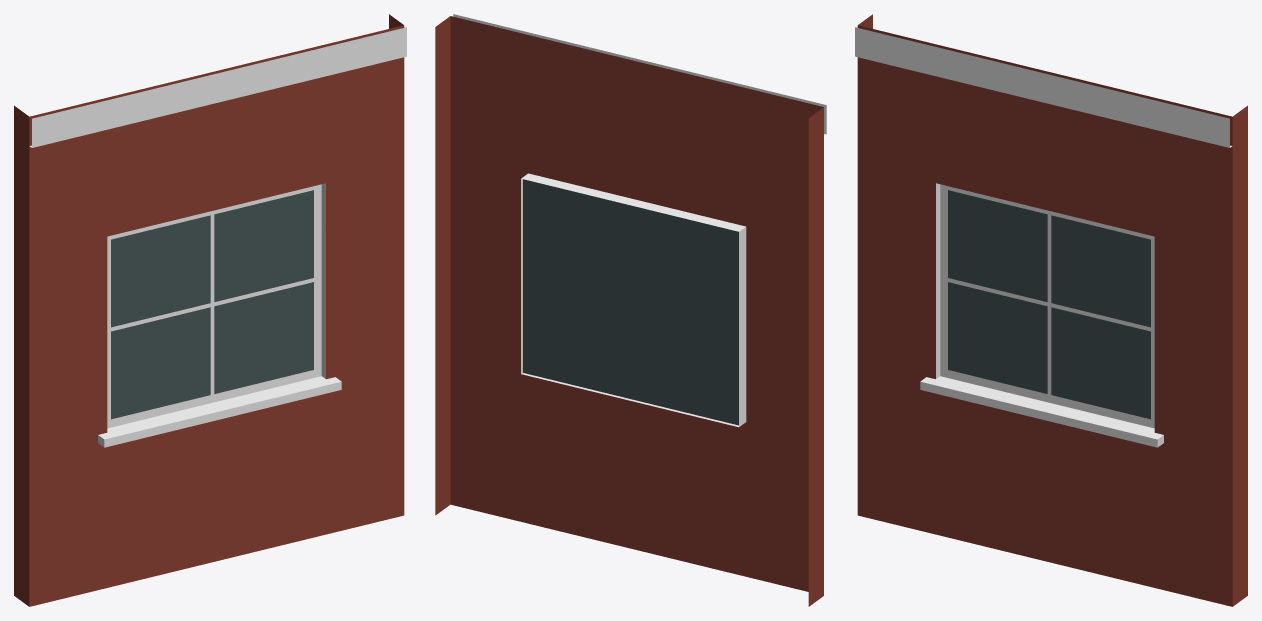
Rendered from mid-stair.fbx.
The picture shows the model from 3 angles, left to right: view 1: azimuth 30°, elevation 25°; view 2: azimuth 150°, elevation 25°; view 3: azimuth 330°, elevation 25°; orthographic projection.
Parts seen in each view (by area): view 1: a2015/600/mid-stair; view 2: a2015/600/mid-stair; view 3: a2015/600/mid-stair.
Part boxes in pixels (x1,y1,x2,y2): a2015/600/mid-stair: [14, 14, 406, 606]; a2015/600/mid-stair: [435, 14, 826, 606]; a2015/600/mid-stair: [855, 14, 1247, 606].
Bounding box in the file's own units: 2.4 × 3 × 0.24.
